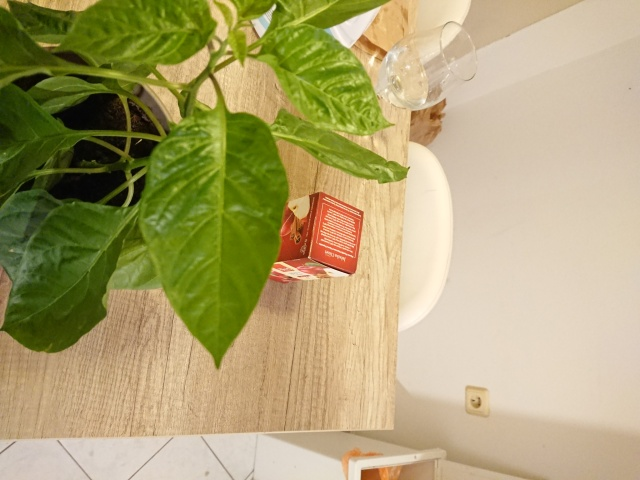Franck Apple Cinnamon Tea 60g: (243, 189, 367, 288)
